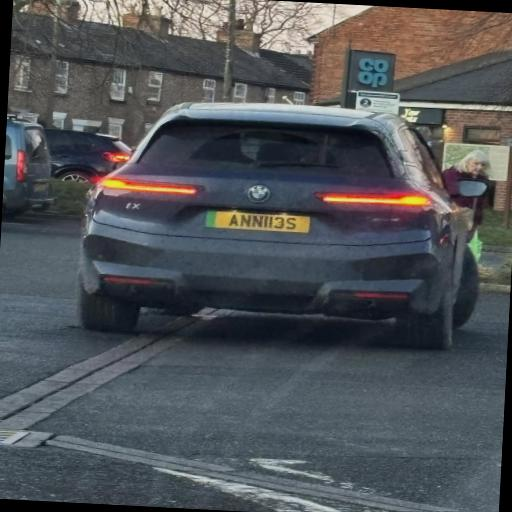numberplates: (206, 211, 310, 233), (34, 182, 48, 192)
